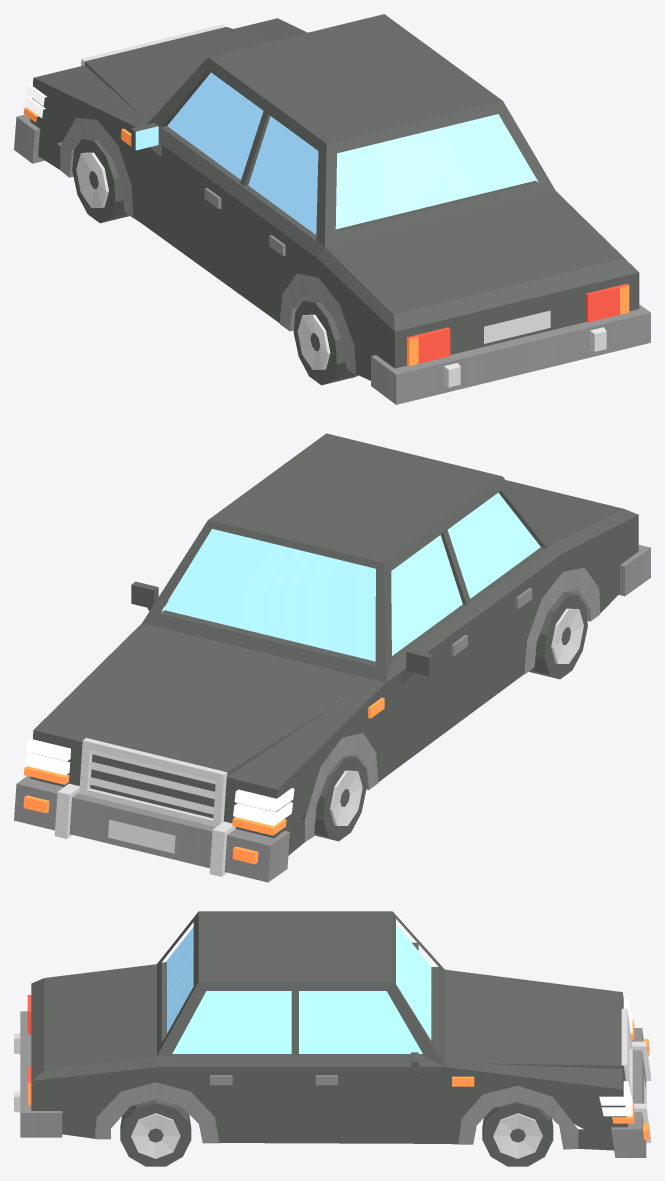
Rendered from transport_cool.003.glb.
3 renders of one model, top to bottom at view 1: azimuth 30°, elevation 25°; view 2: azimuth 150°, elevation 25°; view 3: azimuth 270°, elevation 25°, orthographic. The views are drawn at different scales.
Visible parts, largest first — view 1: transport_cool.003(Clone); view 2: transport_cool.003(Clone); view 3: transport_cool.003(Clone).
Part boxes in pixels (<box>): transport_cool.003(Clone): <box>14,14,650,404</box>; transport_cool.003(Clone): <box>14,433,650,882</box>; transport_cool.003(Clone): <box>14,911,650,1166</box>.
Size of the model in its own units: 1.48 by 0.9874 by 3.34.
Materials: 1 (1 with a texture image).
